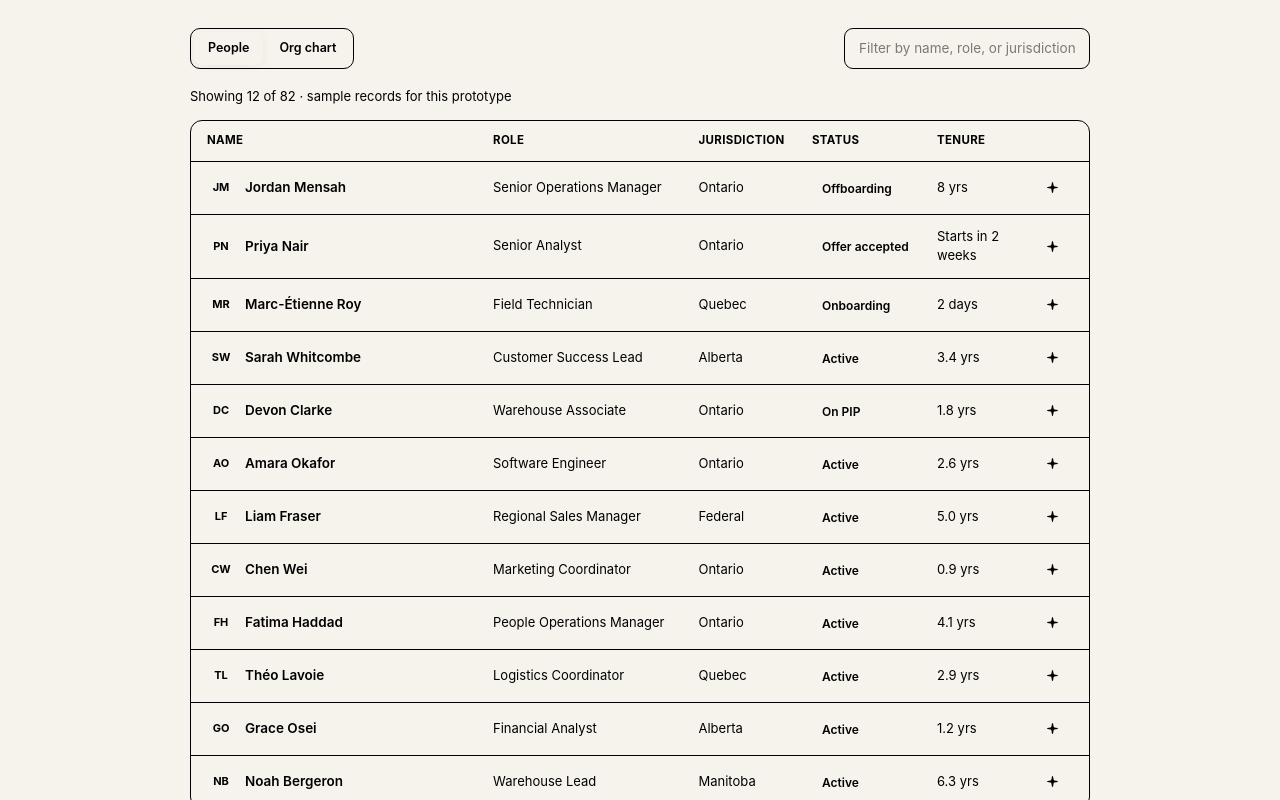
EmployeesView › filters by name/role/jurisdiction and clears via the empty state
Type "quebec" into the field with placeholder "Filter by name, role, or jurisdiction…" at [967, 48], box [844, 28, 1090, 69]
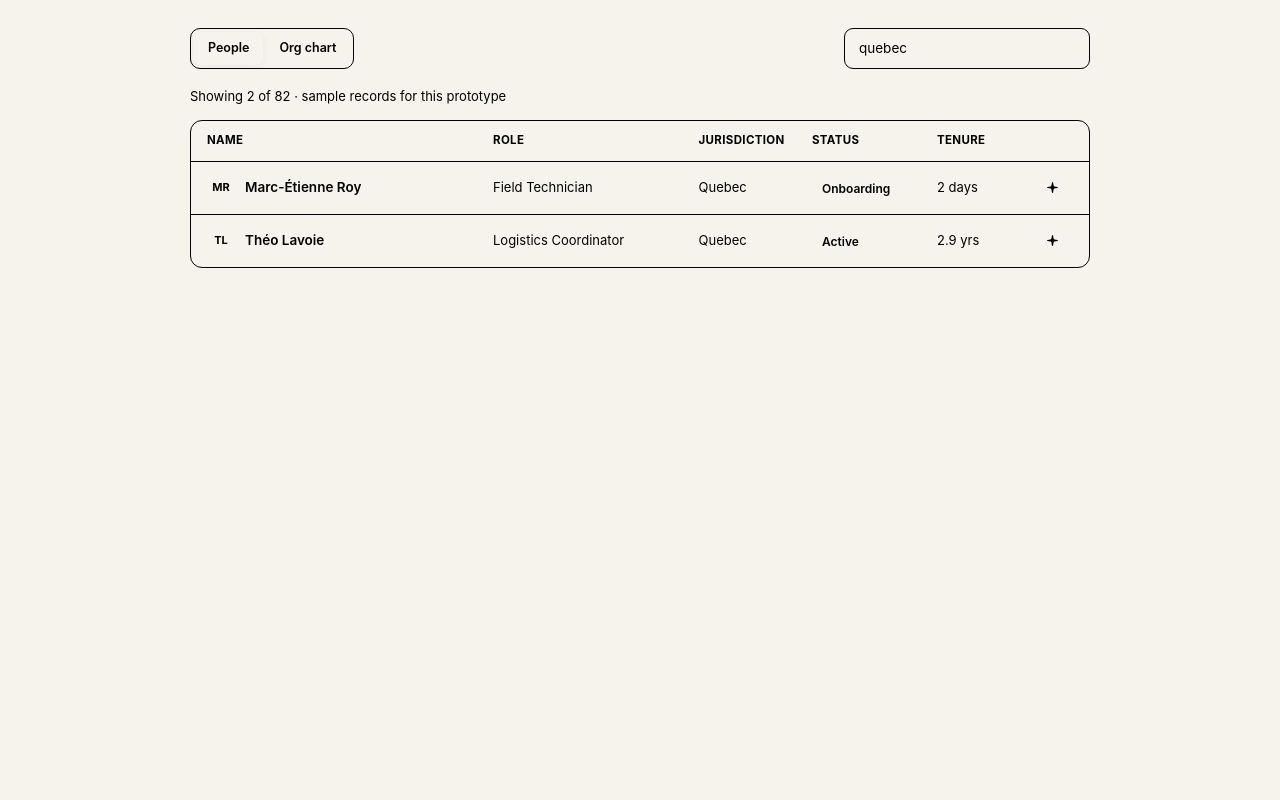
Expected: the button "Marc-Étienne Roy" is shown, [245, 177, 361, 198]
Expected: the text "Showing 2 of 82 · sample records for this prototype" is shown, [190, 88, 506, 104]
Expected: the button "Jordan Mensah" is gone
Replace the text in the field named "Filter by name, role, or jurisdiction…" with "zzz-no-match" at [967, 48], box [844, 28, 1090, 69]
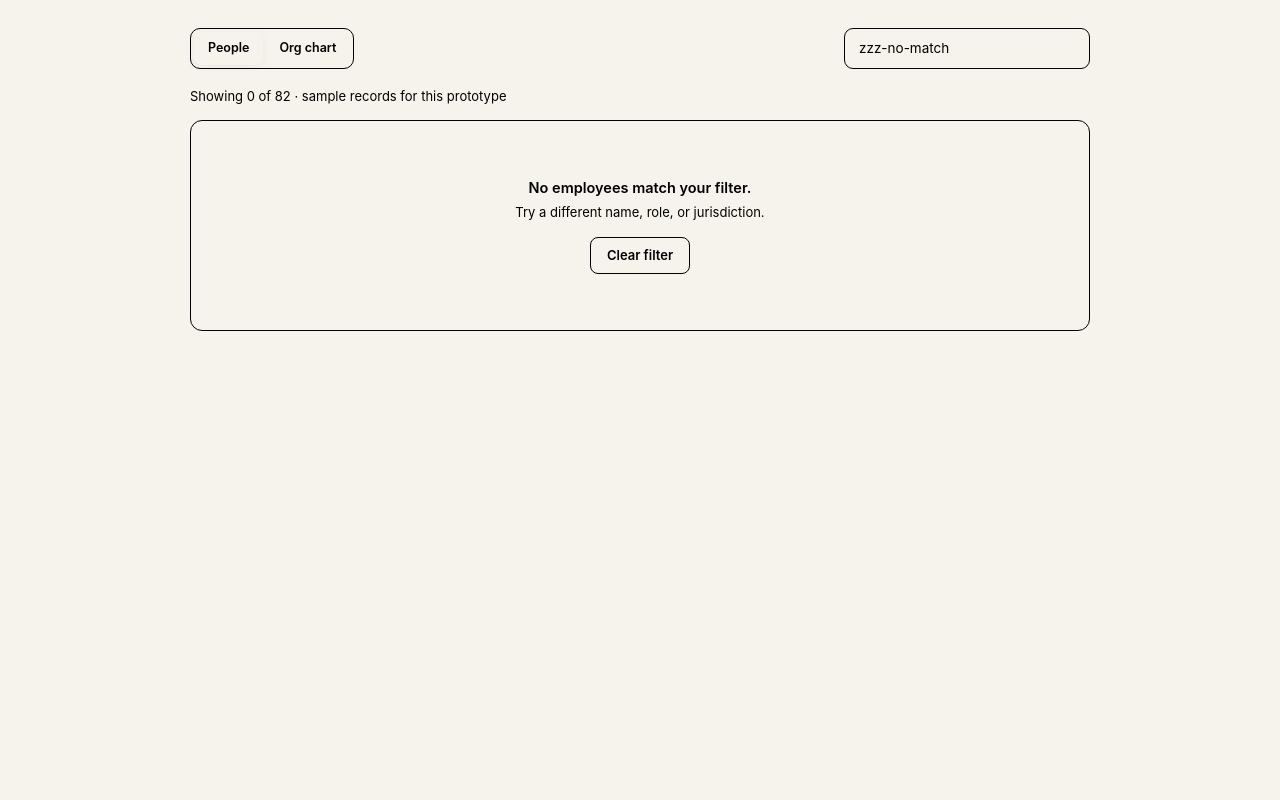
Expected: the text "No employees match your filter." is shown, [529, 179, 751, 196]
Click the button "Clear filter" at [640, 255], box [590, 236, 690, 274]
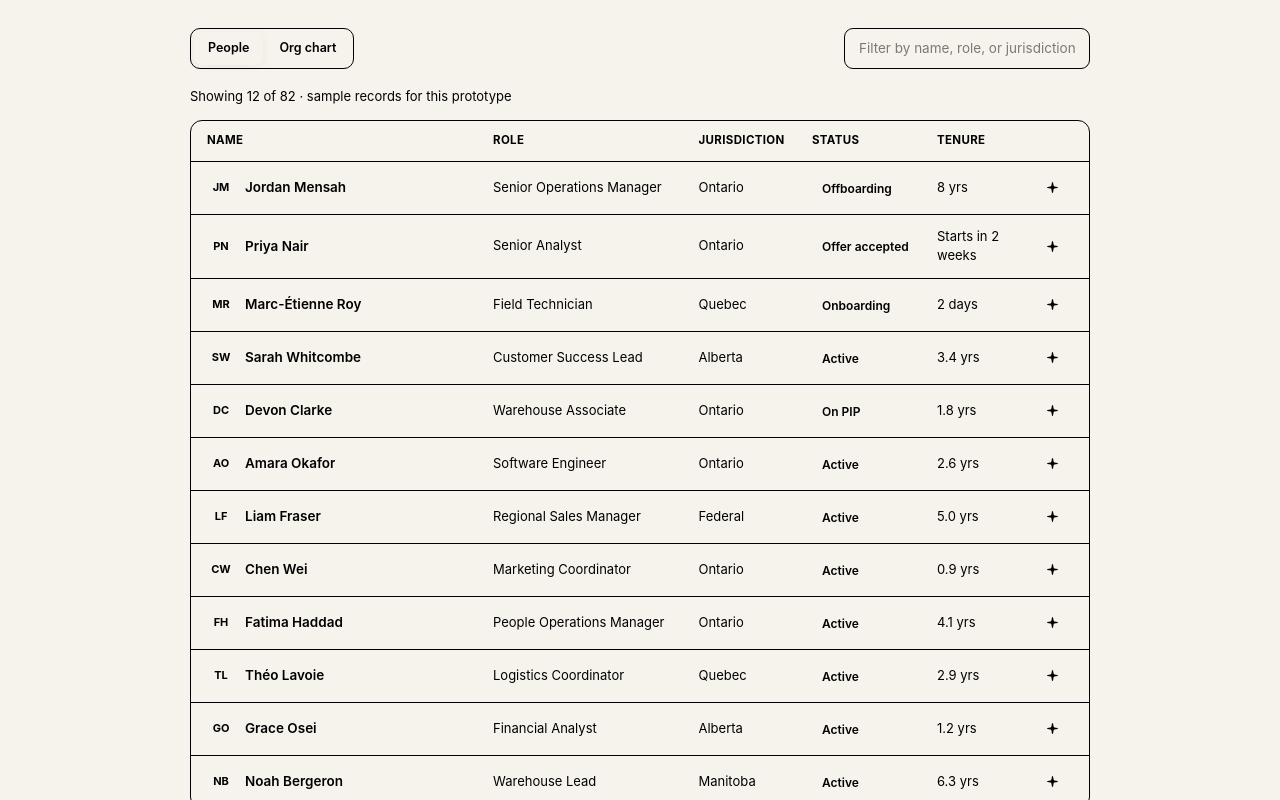
Expected: the text "Showing 12 of 82 · sample records for this prototype" is shown, [190, 88, 512, 104]
